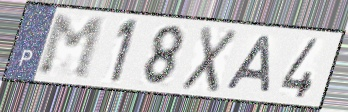1: (107, 17, 142, 85)
4: (278, 37, 323, 99)
8: (139, 23, 188, 88)
A: (222, 33, 275, 95)
M: (36, 14, 108, 82)
X: (178, 24, 241, 96)
